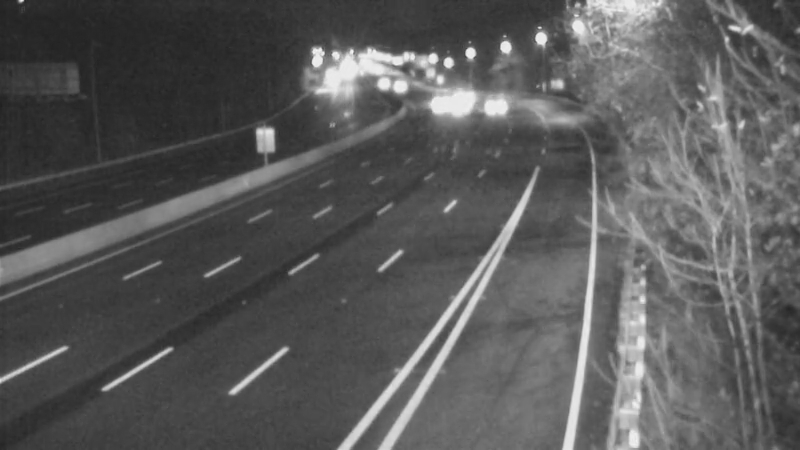vehicle: (368, 56, 418, 106), (352, 58, 402, 108), (432, 67, 482, 117), (412, 85, 462, 135), (441, 85, 491, 135), (472, 84, 522, 134)
